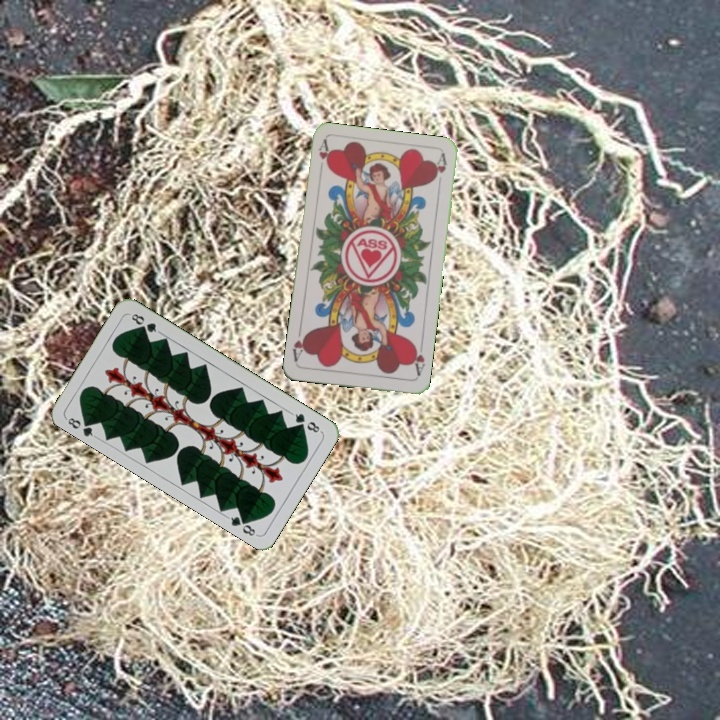G8: (62, 413, 99, 441), (287, 409, 324, 435)
HA: (408, 340, 428, 379), (314, 137, 332, 177)
